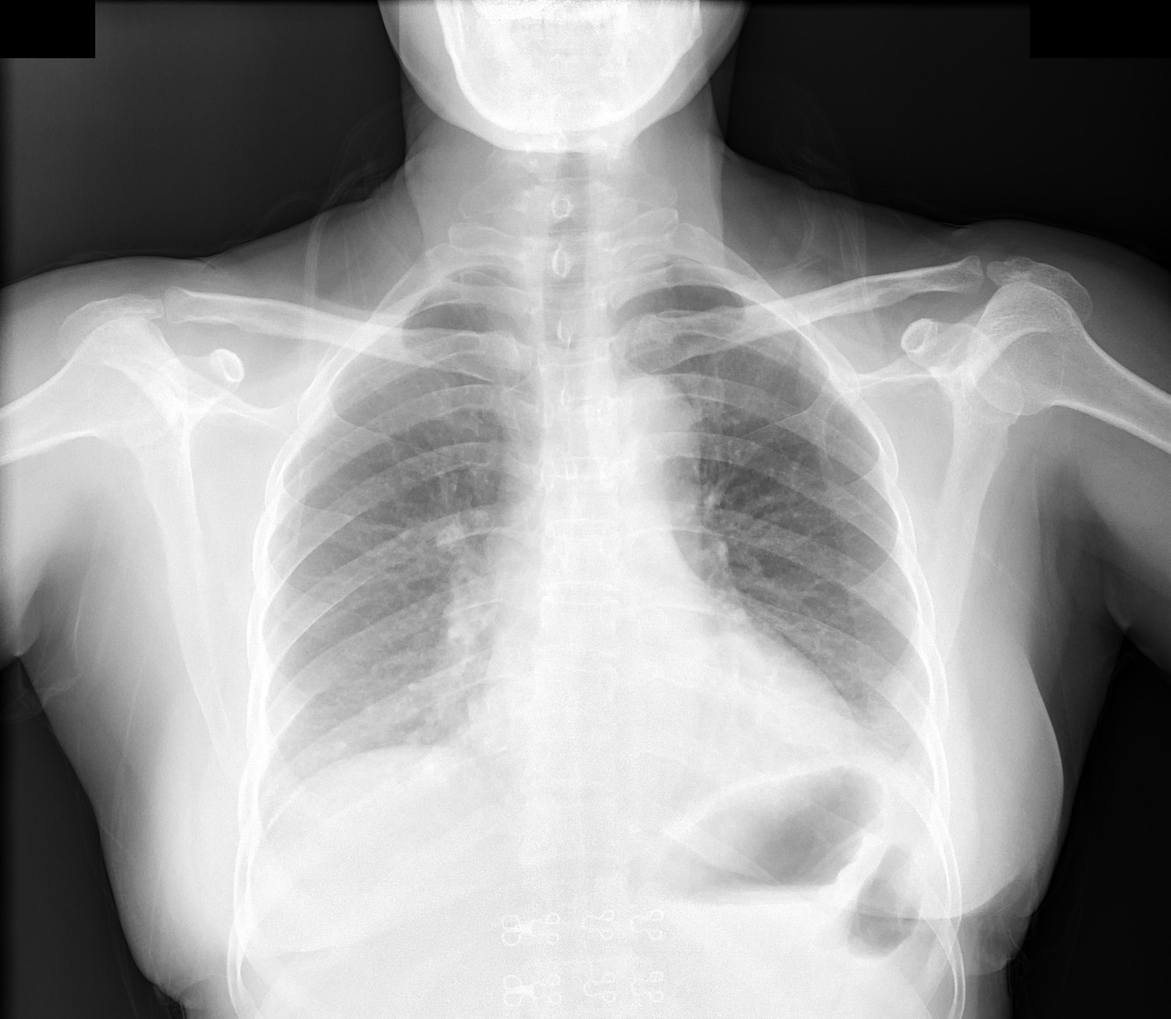Aortic enlargement: (587, 381, 698, 476)
Cardiomegaly: (457, 683, 859, 755)
